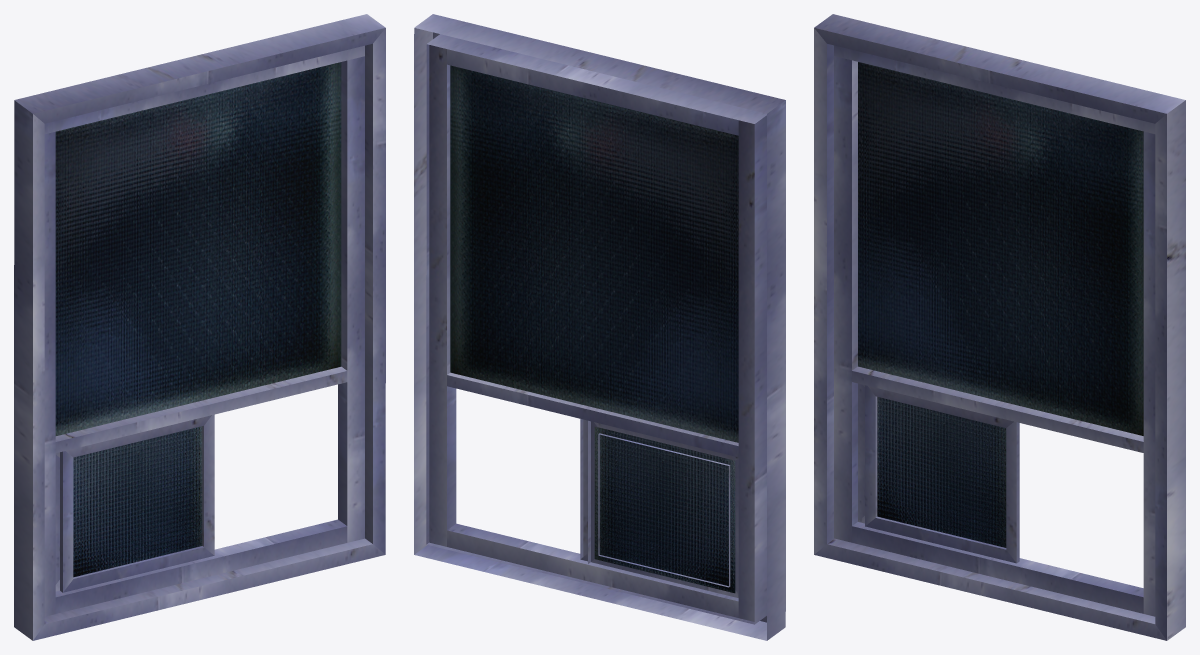
File: Window_0.8m_001.fbx
The picture shows the model from 3 angles, left to right: view 1: azimuth 30°, elevation 25°; view 2: azimuth 150°, elevation 25°; view 3: azimuth 330°, elevation 25°; orthographic projection.
Visible parts, largest first — view 1: Window_0.8m_001; view 2: Window_0.8m_001; view 3: Window_0.8m_001.
Boxes of the visible parts, box(x1,y1,x2,y2) form: Window_0.8m_001: box(14, 14, 385, 640); Window_0.8m_001: box(414, 14, 785, 640); Window_0.8m_001: box(814, 14, 1185, 640).
Bounding box in the file's own units: 56.05 × 80 × 5.2.
1 material, 1 textured.
